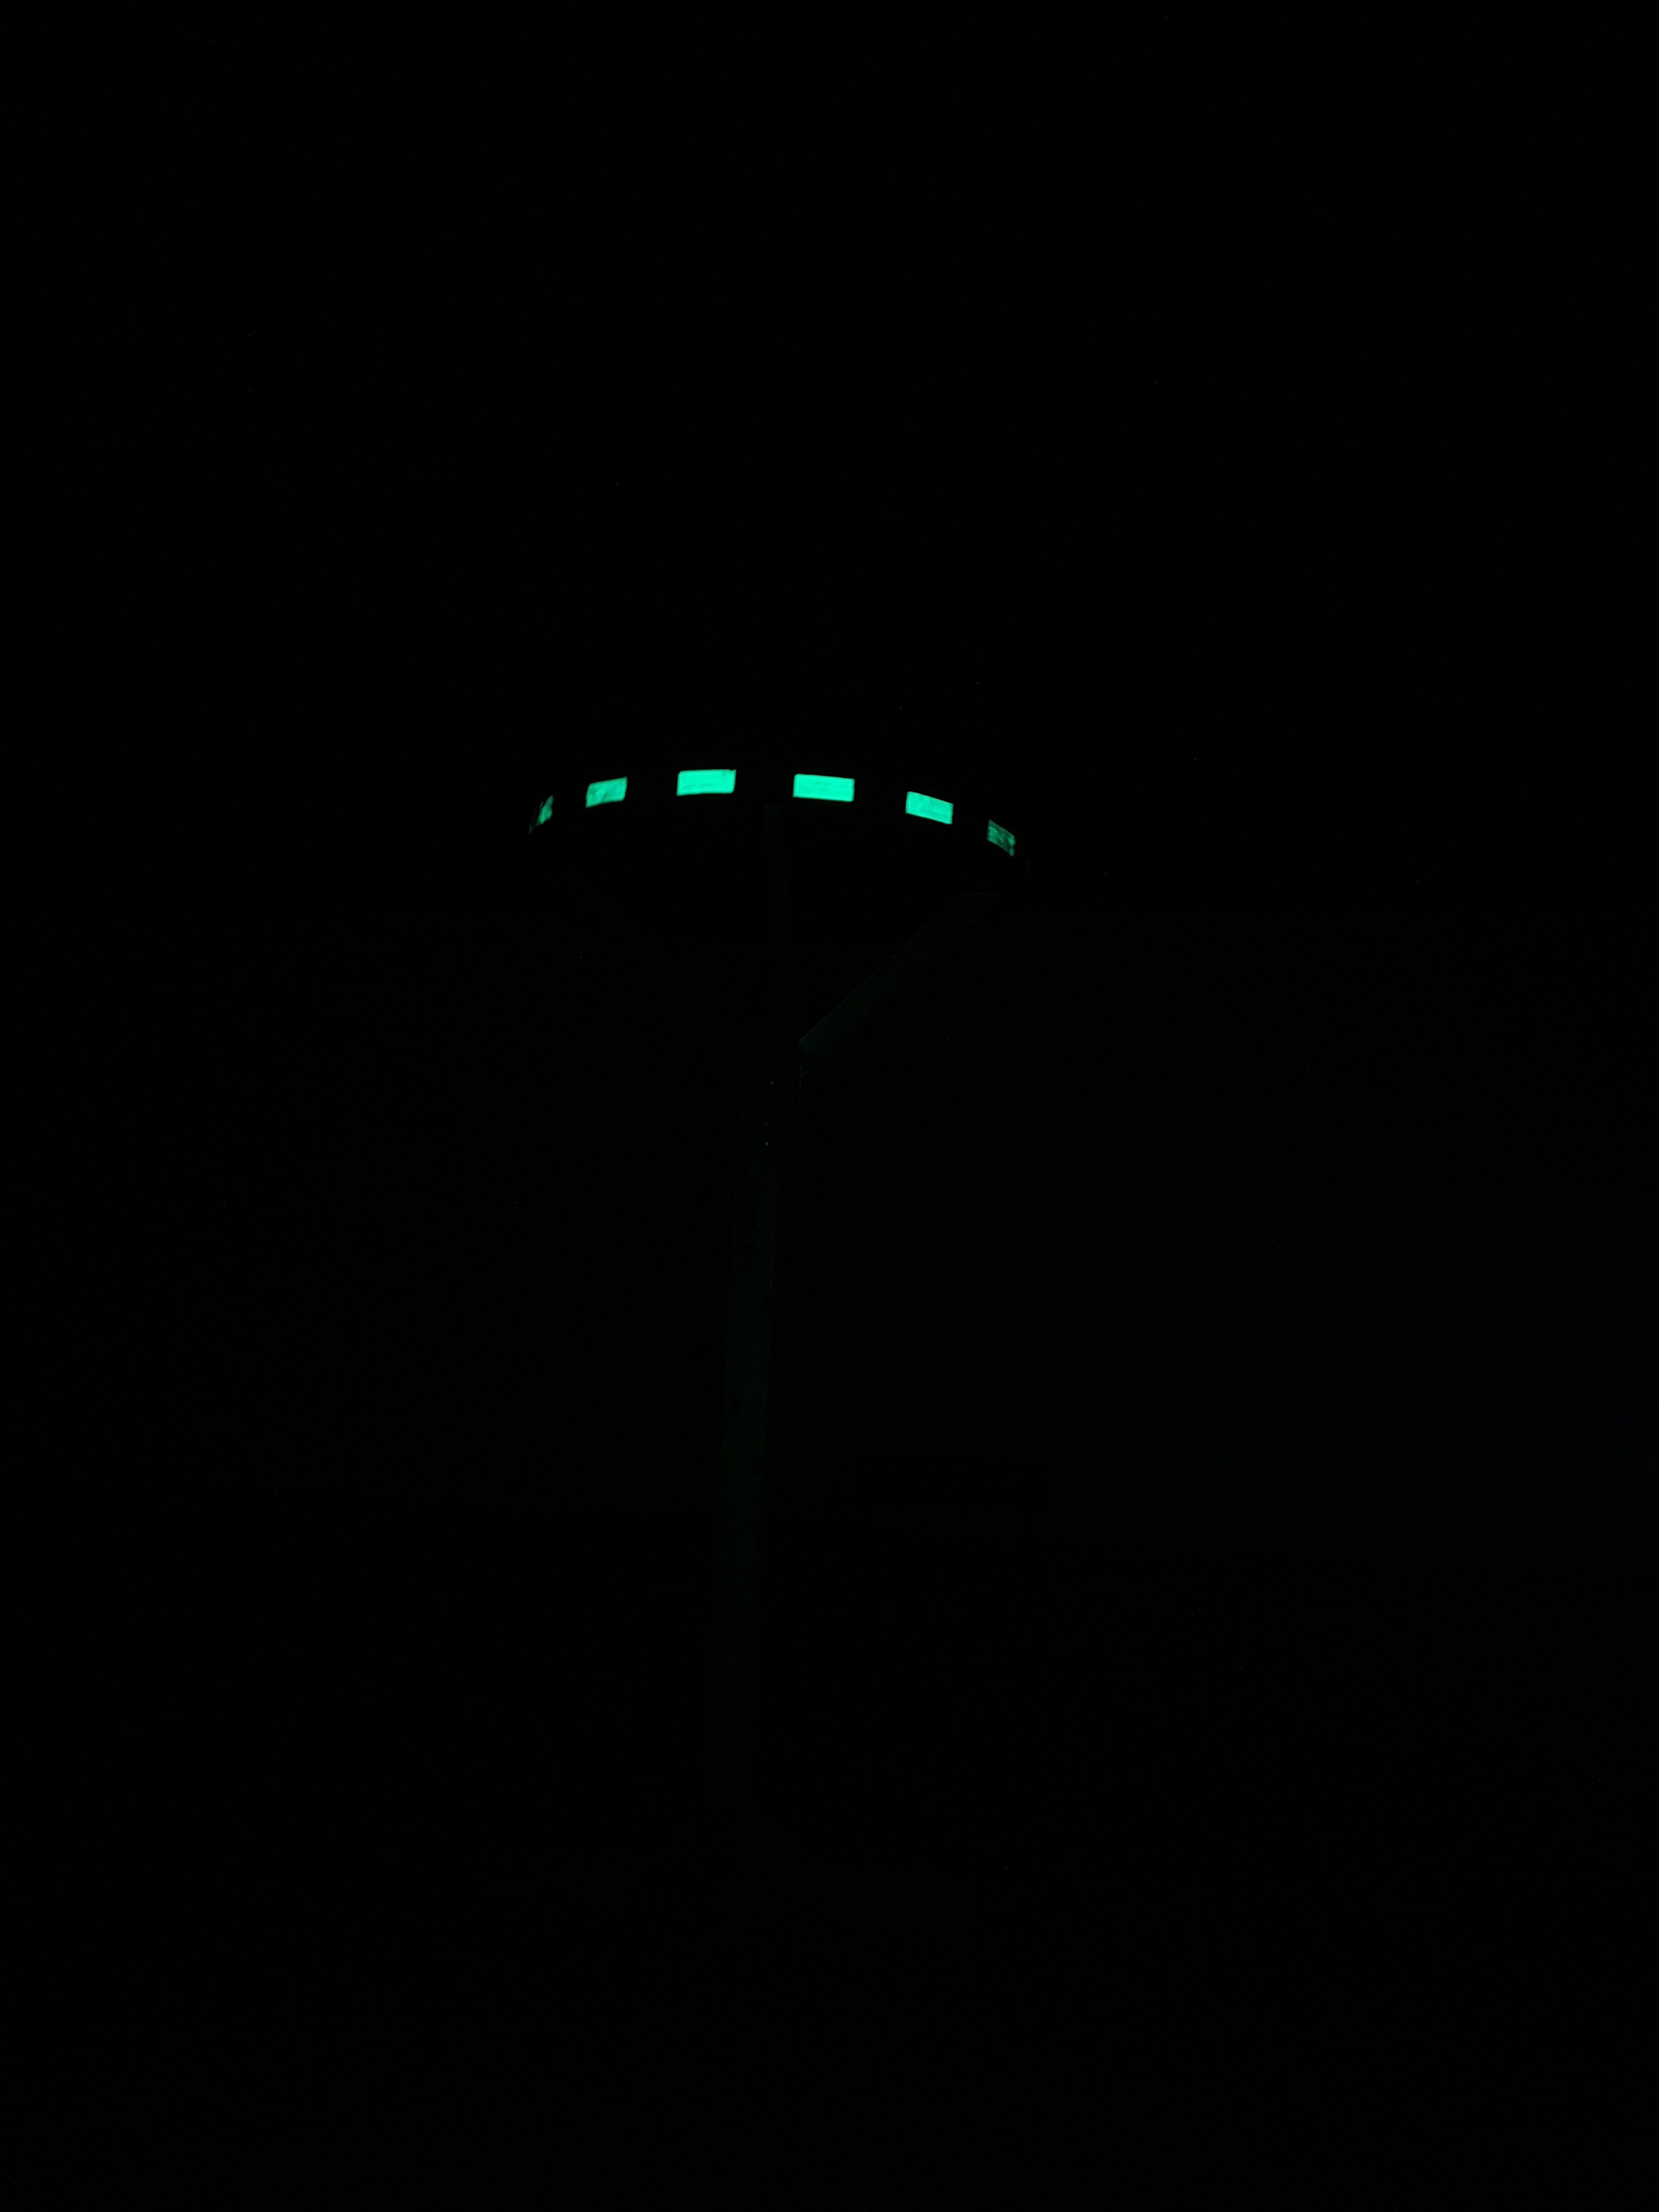hoop: (518, 759, 1035, 878)
